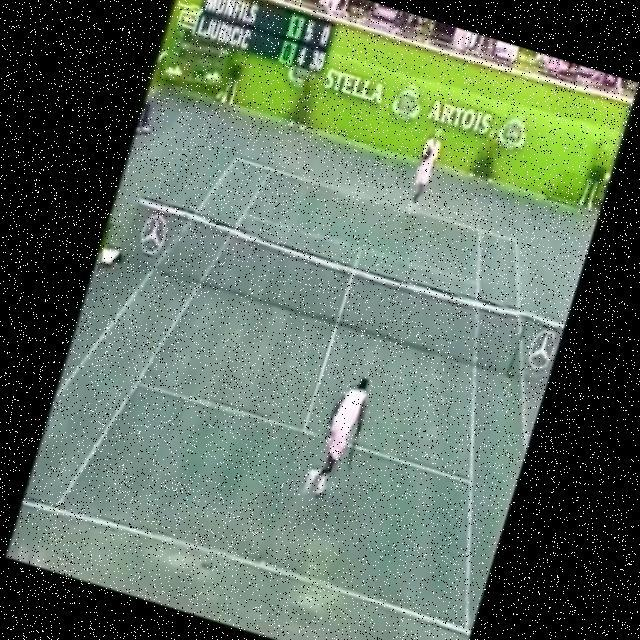court: (22, 122, 584, 638)
net: (116, 190, 565, 390)
player: (300, 368, 378, 508)
